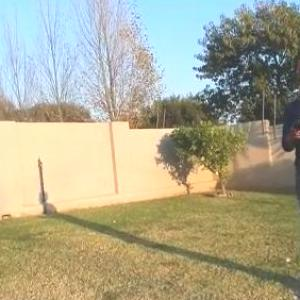follow: (275, 39, 299, 297)
